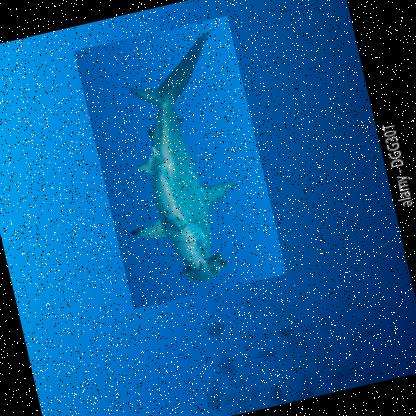hammerhead_Shark: (74, 13, 288, 309)
